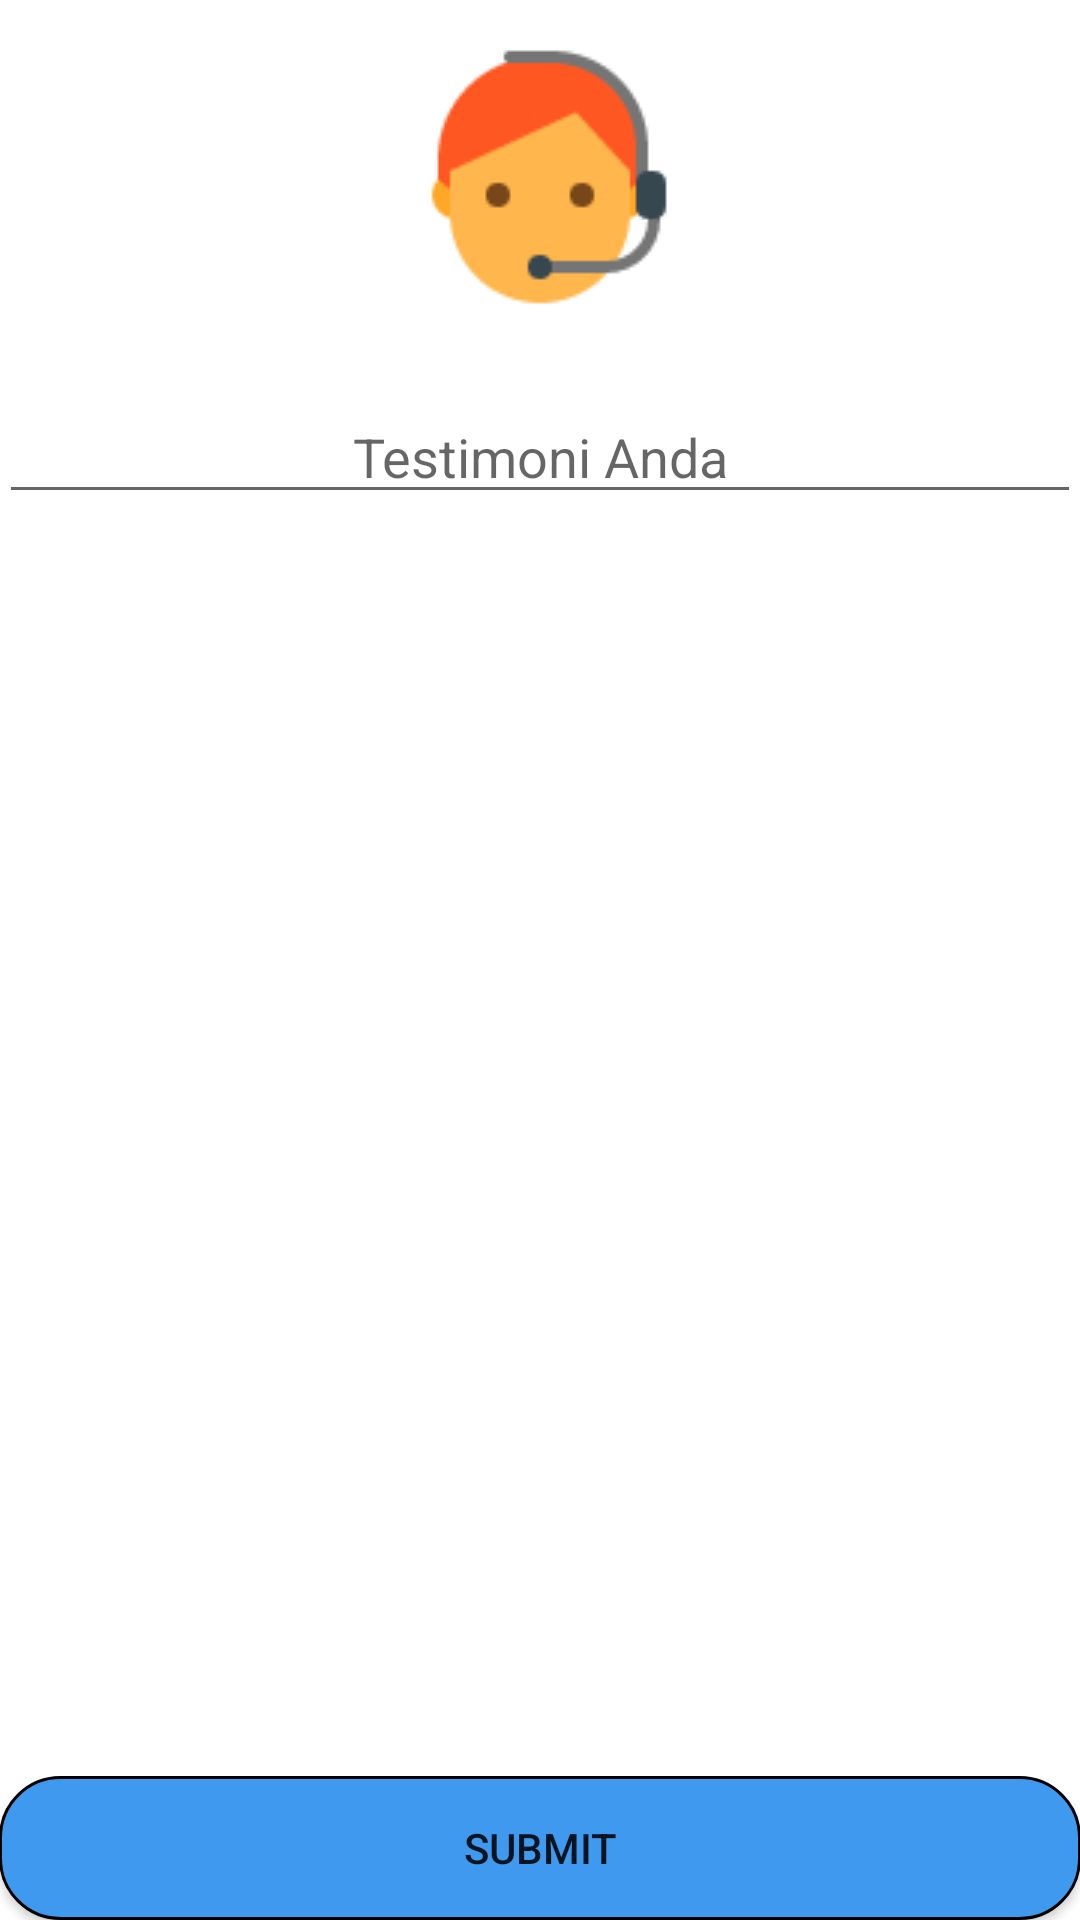

Point at icon controls on the screen. Image size 1080x1920, points as (x=x, y=y).
bantuan: (x=549, y=177)
